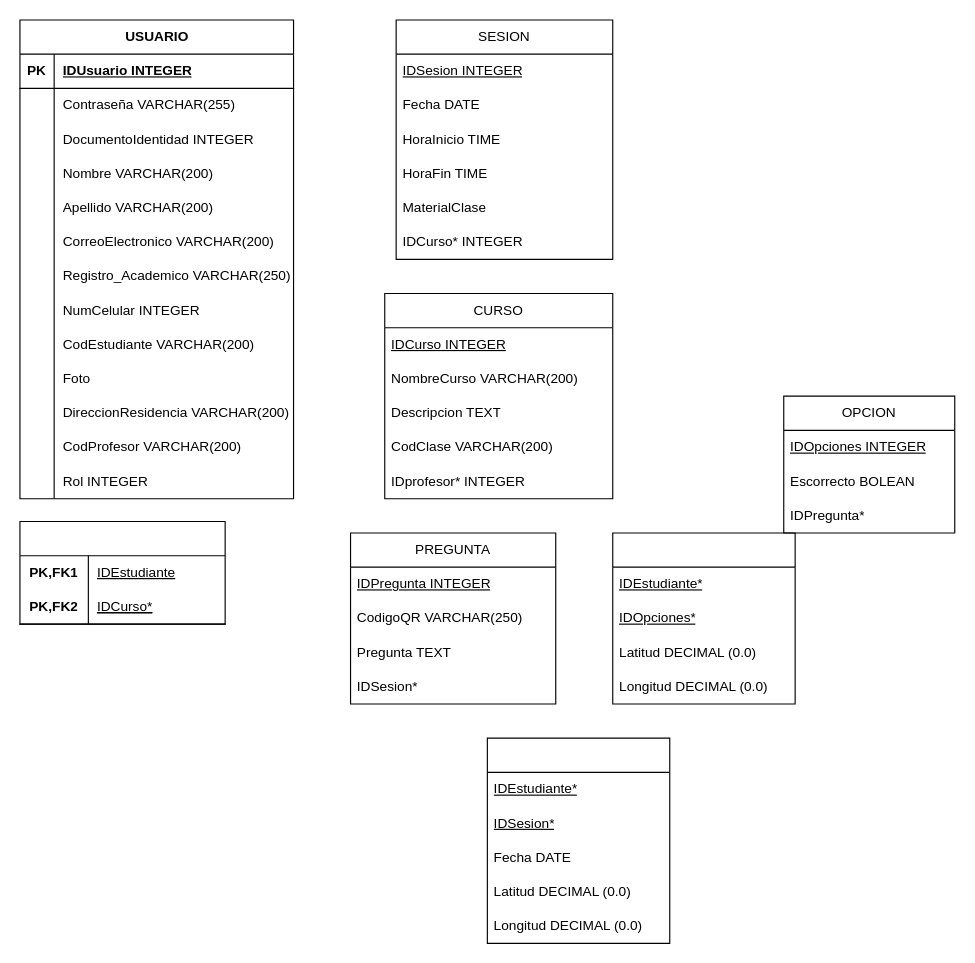
This 975x963 diagram has some shape labels left out. The box of each missing label's shape, as (x1, y1, x2, y2) in pixels:
ESTUDIANTE_CURSO: (19, 520, 225, 624)
ESTUDIANTE_OPCION: (612, 532, 795, 704)
ESTUDIANTE_SESION: (486, 737, 670, 943)
